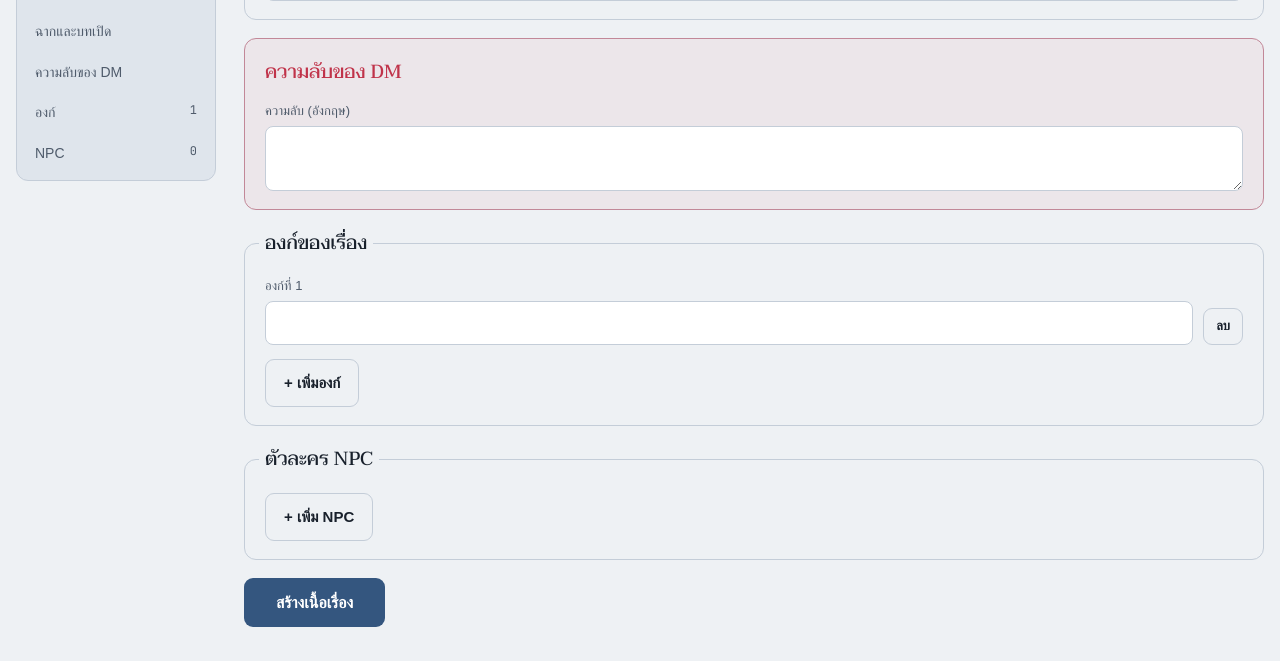
Test: AdventureForm — step 1, create › adds and removes an NPC row
(page scrolled)
Click the button "+ เพิ่ม NPC" at (319, 516), box [265,492,373,540]
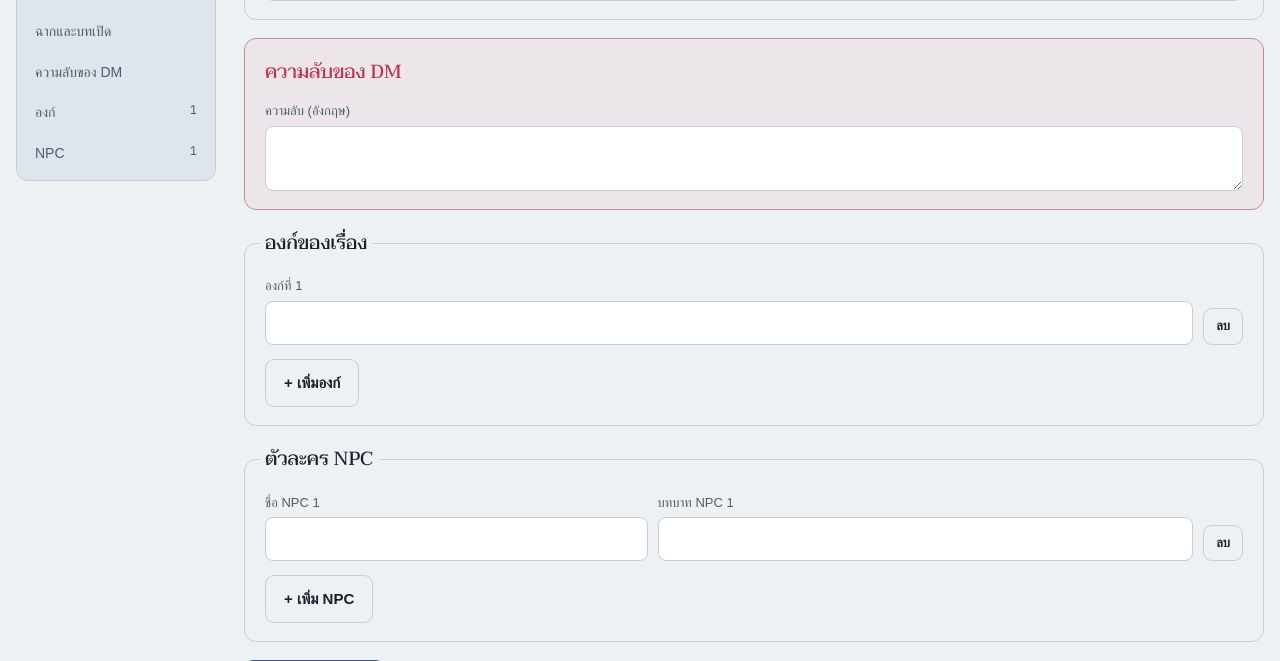
expect the number of fields labelled "ชื่อ NPC 1" is 1: met, box [265,517,648,561]
